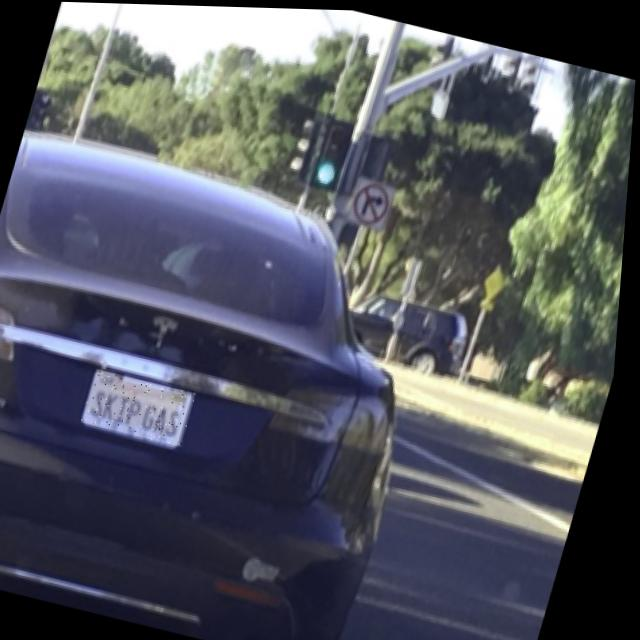license_plate: (85, 368, 203, 445)
